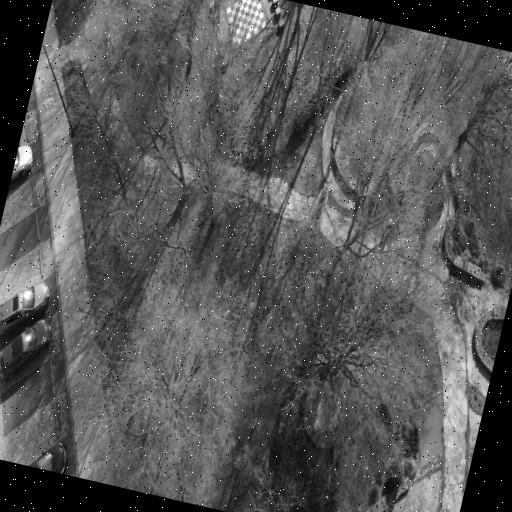person: (0, 320, 51, 380), (0, 282, 49, 337), (30, 443, 67, 473), (11, 146, 32, 181)
